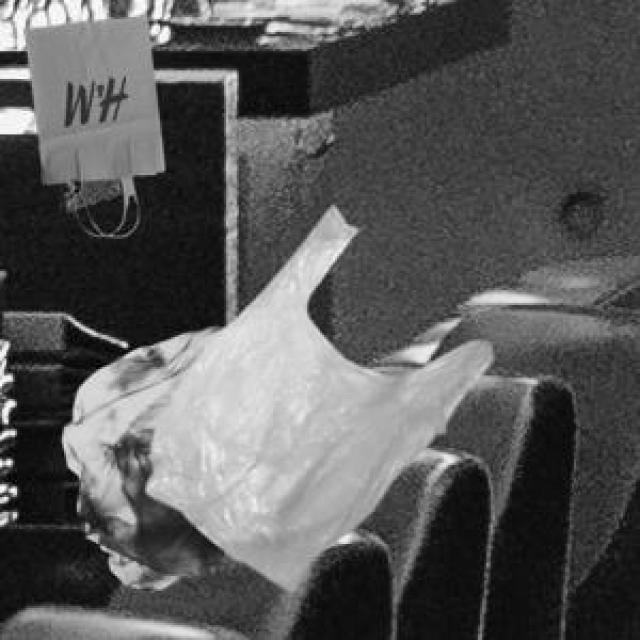paper: (21, 13, 160, 207)
